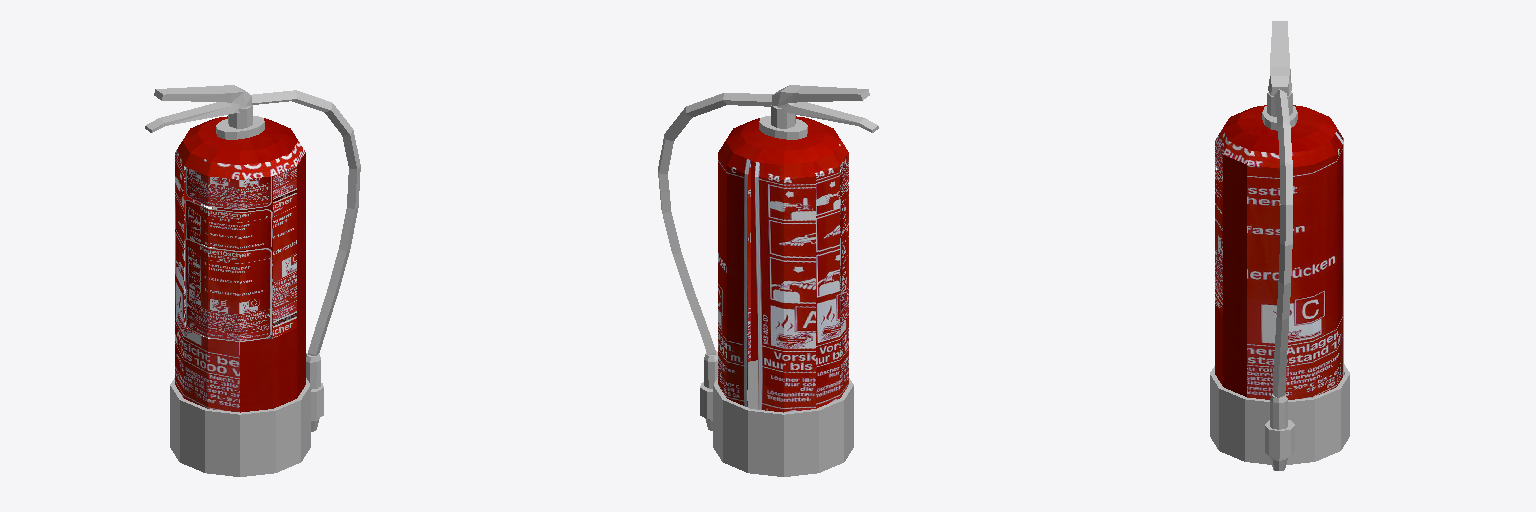
The picture shows the model from 3 angles: view 1: azimuth 30°, elevation 25°; view 2: azimuth 150°, elevation 25°; view 3: azimuth 270°, elevation 25°; orthographic projection.
Parts seen in each view (by area): view 1: Cylinder, Cylinder.001; view 2: Cylinder, Cylinder.001; view 3: Cylinder, Cylinder.001.
Boxes of the visible parts, x1,y1,x2,y2 form: Cylinder: [175, 116, 305, 412]; Cylinder.001: [145, 85, 360, 476]; Cylinder: [718, 116, 848, 412]; Cylinder.001: [658, 85, 878, 476]; Cylinder: [1215, 105, 1343, 399]; Cylinder.001: [1210, 21, 1349, 470].
Size of the model in its own units: 0.7709 by 1.29 by 0.4365.
3 materials, 1 textured.